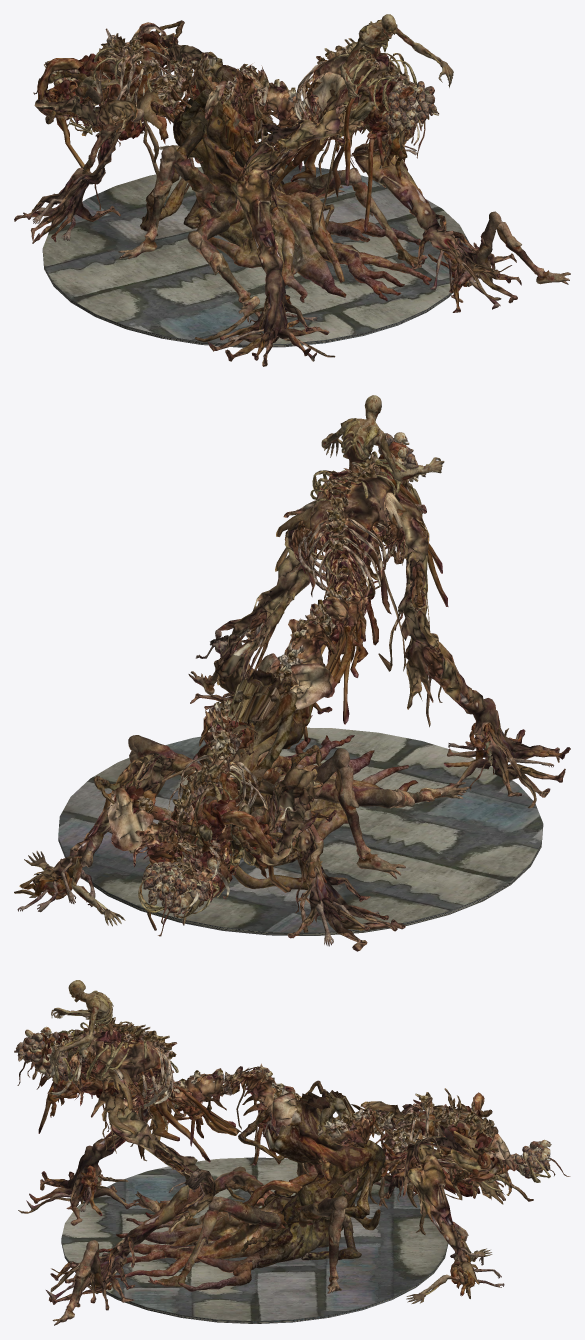
Rendered from the-one-reborn.glb.
3 renders of one model, top to bottom at view 1: azimuth 30°, elevation 25°; view 2: azimuth 150°, elevation 25°; view 3: azimuth 270°, elevation 25°, orthographic. The views are drawn at different scales.
Visible parts, largest first — view 1: 31-bb_31_0, 42-Cylinder.obj, 31-bb_31_1, 31-bb_31_4, 31-bb_31_3, 25-m0_c5070_Human.obj, 31-bb_31_2; view 2: 31-bb_31_0, 42-Cylinder.obj, 31-bb_31_1, 31-bb_31_4, 31-bb_31_3, 31-bb_31_2, 25-m0_c5070_Human.obj; view 3: 31-bb_31_0, 31-bb_31_1, 42-Cylinder.obj, 31-bb_31_4, 31-bb_31_3, 31-bb_31_2, 25-m0_c5070_Human.obj.
Boxes of the visible parts, box(x1,y1,x2,y2) form: 31-bb_31_0: box(14, 22, 521, 366); 42-Cylinder.obj: box(42, 165, 469, 347); 31-bb_31_1: box(37, 20, 471, 329); 31-bb_31_4: box(75, 51, 570, 321); 31-bb_31_3: box(31, 60, 500, 361); 25-m0_c5070_Human.obj: box(339, 14, 453, 98); 31-bb_31_2: box(53, 47, 416, 150); 31-bb_31_0: box(19, 451, 570, 951); 42-Cylinder.obj: box(58, 727, 543, 935); 31-bb_31_1: box(14, 441, 494, 901); 31-bb_31_4: box(37, 533, 469, 884); 31-bb_31_3: box(17, 432, 553, 946); 31-bb_31_2: box(24, 459, 407, 926); 25-m0_c5070_Human.obj: box(321, 395, 444, 481); 31-bb_31_0: box(17, 1017, 570, 1310); 31-bb_31_1: box(33, 1028, 510, 1298); 42-Cylinder.obj: box(61, 1157, 448, 1323); 31-bb_31_4: box(52, 1086, 470, 1325); 31-bb_31_3: box(14, 1026, 551, 1299); 31-bb_31_2: box(52, 1020, 550, 1303); 25-m0_c5070_Human.obj: box(50, 980, 113, 1068).
Size of the model in its own units: 6.32 by 4.72 by 8.62.
Materials: 6 (6 with a texture image).
